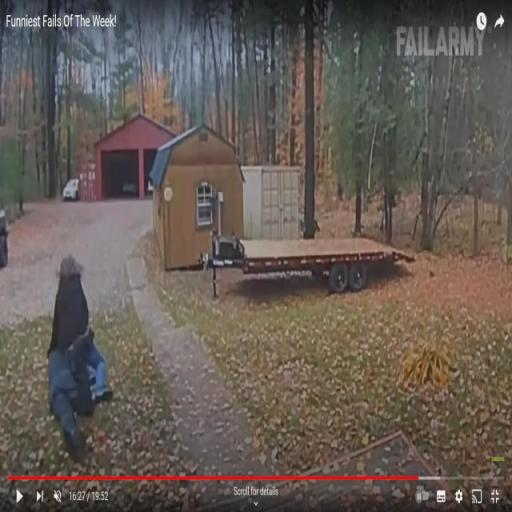Fall: (45, 329, 97, 460), (44, 251, 93, 356)
